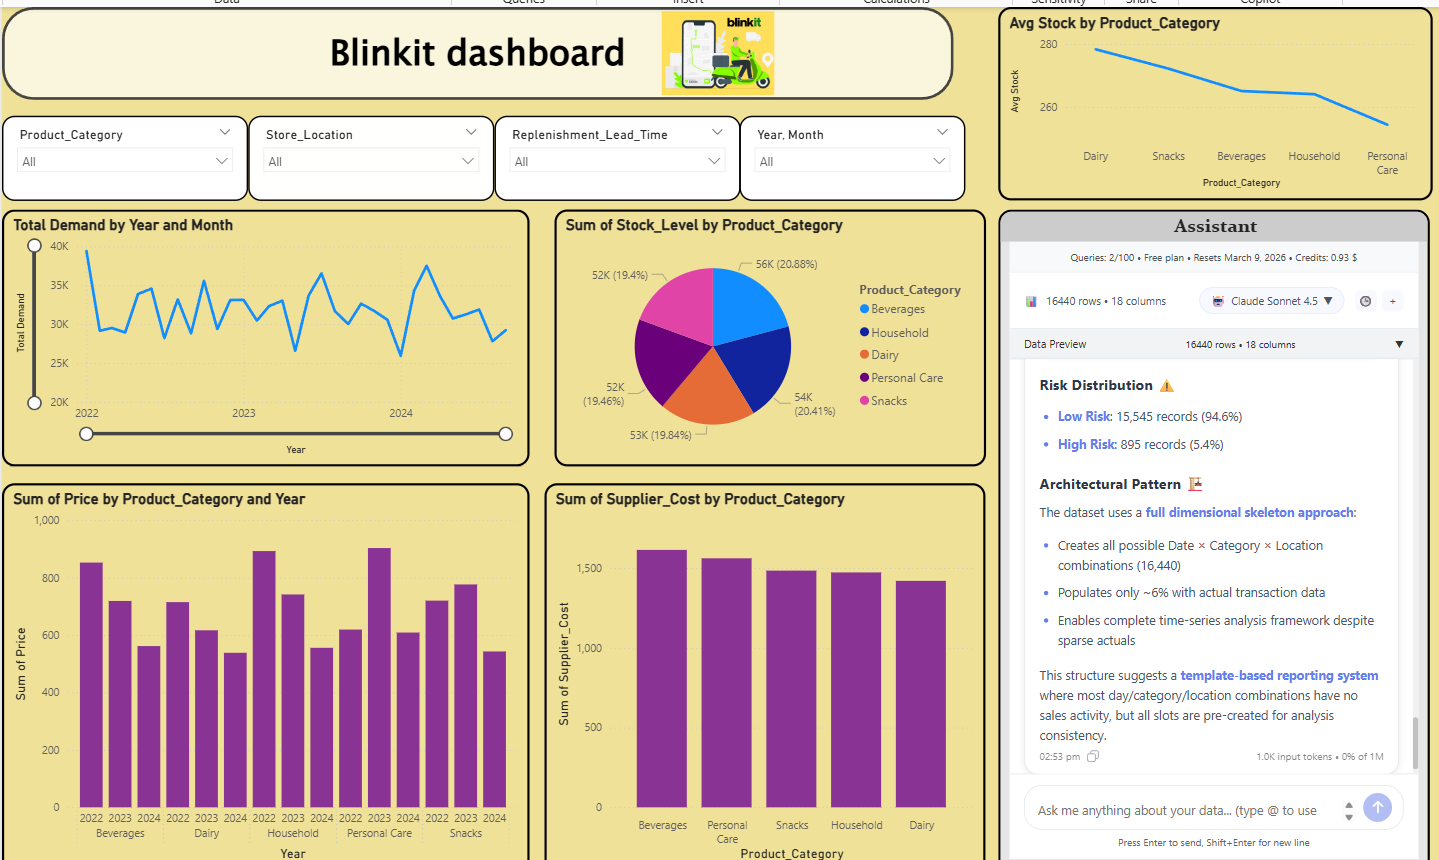

The dashboard page shown, as its layout file describes it:
{"tool":"powerbi","page":{"name":"Page 1","canvas":[1600,960],"ordinal":0},"visuals":[{"type":"slicer","fields":{"Values":["extended_fmcg_demand_forecastin.Product_Category"]},"box":[0,120.1,272.7,94.3],"z":0},{"type":"shape","box":[0,0,1054.9,102.9],"z":1000},{"type":"slicer","fields":{"Values":["extended_fmcg_demand_forecastin.Store_Location"]},"box":[272.7,120.1,272.7,94.3],"z":2000},{"type":"lineStackedColumnComboChart","fields":{"Category":["extended_fmcg_demand_forecastin.Product_Category","extended_fmcg_demand_forecastin.Date.Variation.Date Hierarchy.Year"],"Y":["Sum(extended_fmcg_demand_forecastin.Price)"]},"box":[0,528.3,584.9,432.2],"z":3000},{"type":"lineChart","fields":{"Y":["extended_fmcg_demand_forecastin.Total Demand"],"Category":["extended_fmcg_demand_forecastin.Date.Variation.Date Hierarchy.Year","extended_fmcg_demand_forecastin.Date.Variation.Date Hierarchy.Month"]},"box":[0,224.7,584.9,284.7],"z":4000},{"type":"lineStackedColumnComboChart","fields":{"Category":["extended_fmcg_demand_forecastin.Product_Category"],"Y":["Sum(extended_fmcg_demand_forecastin.Supplier_Cost)"]},"box":[602.1,528.3,488.9,432.2],"z":5000},{"type":"lineChart","fields":{"Category":["extended_fmcg_demand_forecastin.Product_Category"],"Y":["extended_fmcg_demand_forecastin.Avg Stock"]},"box":[1104.6,0,482,214.4],"z":6000},{"type":"image","box":[567.8,0,451.1,102.9],"z":7000},{"type":"pieChart","fields":{"Category":["extended_fmcg_demand_forecastin.Product_Category"],"Y":["Sum(extended_fmcg_demand_forecastin.Stock_Level)"]},"box":[612.4,224.7,478.6,284.7],"z":8000},{"type":"slicer","fields":{"Values":["extended_fmcg_demand_forecastin.Replenishment_Lead_Time"]},"box":[545.5,120.1,272.7,94.3],"z":9000},{"type":"slicer","fields":{"Values":["extended_fmcg_demand_forecastin.Date.Variation.Date Hierarchy.Year","extended_fmcg_demand_forecastin.Date.Variation.Date Hierarchy.Month"]},"box":[818.2,120.1,250.4,94.3],"z":10000},{"type":"pbi_ai_agent","title":"Assistant","fields":{"measure":["extended_fmcg_demand_forecastin.Avg Stock","extended_fmcg_demand_forecastin.Non-Promo Sales","Sum(extended_fmcg_demand_forecastin.Price)","Sum(extended_fmcg_demand_forecastin.Promotion)","extended_fmcg_demand_forecastin.Promotion Sales","Sum(extended_fmcg_demand_forecastin.Replenishment_Lead_Time)","Sum(extended_fmcg_demand_forecastin.Sales_Volume)","Sum(extended_fmcg_demand_forecastin.Stock_Level)","extended_fmcg_demand_forecastin.Stockout Risk","Sum(extended_fmcg_demand_forecastin.Supplier_Cost)","extended_fmcg_demand_forecastin.Total Demand","Sum(extended_fmcg_demand_forecastin.Weekday)"],"category":["extended_fmcg_demand_forecastin.Date.Variation.Date Hierarchy.Year","extended_fmcg_demand_forecastin.Date.Variation.Date Hierarchy.Quarter","extended_fmcg_demand_forecastin.Date.Variation.Date Hierarchy.Month","extended_fmcg_demand_forecastin.Date.Variation.Date Hierarchy.Day","extended_fmcg_demand_forecastin.Product_Category","extended_fmcg_demand_forecastin.Store_Location"]},"box":[1104.6,224.7,478.6,735.9],"z":11000}]}

Visuals, with their boxes in screenshot pixels (x1, y1, x2, y2):
slicer - extended_fmcg_demand_forecastin.Product_Category: left=0, top=110, right=234, bottom=196
shape: left=0, top=0, right=949, bottom=94
slicer - extended_fmcg_demand_forecastin.Store_Location: left=234, top=110, right=483, bottom=196
lineStackedColumnComboChart - extended_fmcg_demand_forecastin.Product_Category x extended_fmcg_demand_forecastin.Date.Variation.Date Hierarchy.Year: left=0, top=483, right=520, bottom=859
lineChart - extended_fmcg_demand_forecastin.Total Demand x extended_fmcg_demand_forecastin.Date.Variation.Date Hierarchy.Year: left=0, top=205, right=520, bottom=466
lineStackedColumnComboChart - extended_fmcg_demand_forecastin.Product_Category x Sum(extended_fmcg_demand_forecastin.Supplier_Cost): left=535, top=483, right=982, bottom=859
lineChart - extended_fmcg_demand_forecastin.Product_Category x extended_fmcg_demand_forecastin.Avg Stock: left=995, top=0, right=1435, bottom=196
image: left=504, top=0, right=916, bottom=94
pieChart - extended_fmcg_demand_forecastin.Product_Category x Sum(extended_fmcg_demand_forecastin.Stock_Level): left=545, top=205, right=982, bottom=466
slicer - extended_fmcg_demand_forecastin.Replenishment_Lead_Time: left=484, top=110, right=733, bottom=196
slicer - extended_fmcg_demand_forecastin.Date.Variation.Date Hierarchy.Year x extended_fmcg_demand_forecastin.Date.Variation.Date Hierarchy.Month: left=733, top=110, right=962, bottom=196
"Assistant" pbi_ai_agent: left=995, top=205, right=1432, bottom=859
